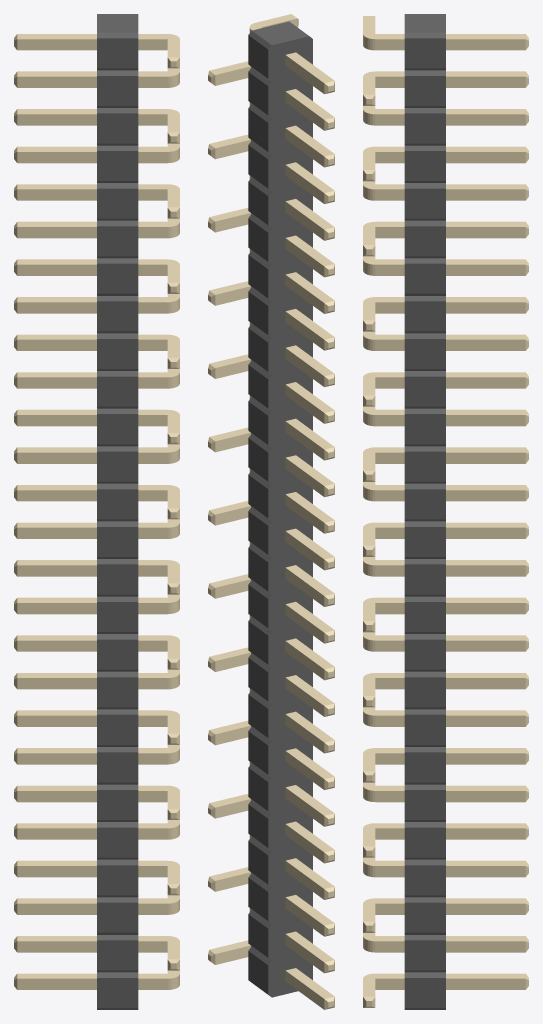
Rendered from PinHeader_1x26_P1.00mm_Vertical_SMD_Pin1Right.glb.
The picture shows the model from 3 angles, left to right: view 1: azimuth 90°, elevation 25°; view 2: azimuth 210°, elevation 25°; view 3: azimuth 270°, elevation 25°; orthographic projection. The views are drawn at different scales.
Parts seen in each view (by area): view 1: Shape_IndexedFaceSet.019, Shape_IndexedFaceSet.091, Shape_IndexedFaceSet.121, Shape_IndexedFaceSet.007, Shape_IndexedFaceSet.031, Shape_IndexedFaceSet.037, Shape_IndexedFaceSet.043, Shape_IndexedFaceSet.049, Shape_IndexedFaceSet.061, Shape_IndexedFaceSet.067, Shape_IndexedFaceSet.073, Shape_IndexedFaceSet.079 (+80 smaller); view 2: Shape_IndexedFaceSet.004, Shape_IndexedFaceSet.001, Shape_IndexedFaceSet.058, Shape_IndexedFaceSet.010, Shape_IndexedFaceSet.016, Shape_IndexedFaceSet.022, Shape_IndexedFaceSet.040, Shape_IndexedFaceSet.088, Shape_IndexedFaceSet.100, Shape_IndexedFaceSet.106, Shape_IndexedFaceSet.136, Shape_IndexedFaceSet.148 (+81 smaller); view 3: Shape_IndexedFaceSet.016, Shape_IndexedFaceSet.088, Shape_IndexedFaceSet.118, Shape_IndexedFaceSet.002, Shape_IndexedFaceSet.028, Shape_IndexedFaceSet.034, Shape_IndexedFaceSet.040, Shape_IndexedFaceSet.046, Shape_IndexedFaceSet.058, Shape_IndexedFaceSet.064, Shape_IndexedFaceSet.070, Shape_IndexedFaceSet.076 (+81 smaller).
Boxes of the visible parts, box(x1,y1,x2,y2) form: Shape_IndexedFaceSet.019: box(97, 113, 138, 143); Shape_IndexedFaceSet.091: box(97, 564, 138, 594); Shape_IndexedFaceSet.121: box(97, 752, 138, 782); Shape_IndexedFaceSet.007: box(97, 38, 138, 68); Shape_IndexedFaceSet.031: box(97, 188, 138, 218); Shape_IndexedFaceSet.037: box(97, 226, 138, 256); Shape_IndexedFaceSet.043: box(97, 263, 138, 293); Shape_IndexedFaceSet.049: box(97, 301, 138, 331); Shape_IndexedFaceSet.061: box(97, 376, 138, 406); Shape_IndexedFaceSet.067: box(97, 414, 138, 444); Shape_IndexedFaceSet.073: box(97, 451, 138, 481); Shape_IndexedFaceSet.079: box(97, 489, 138, 519); Shape_IndexedFaceSet.004: box(268, 36, 312, 997); Shape_IndexedFaceSet.001: box(252, 21, 308, 45); Shape_IndexedFaceSet.058: box(248, 365, 268, 408); Shape_IndexedFaceSet.010: box(248, 72, 268, 115); Shape_IndexedFaceSet.016: box(248, 108, 268, 151); Shape_IndexedFaceSet.022: box(248, 145, 268, 188); Shape_IndexedFaceSet.040: box(248, 255, 268, 298); Shape_IndexedFaceSet.088: box(248, 548, 268, 591); Shape_IndexedFaceSet.100: box(248, 621, 268, 664); Shape_IndexedFaceSet.106: box(248, 658, 268, 701); Shape_IndexedFaceSet.136: box(248, 841, 268, 884); Shape_IndexedFaceSet.148: box(248, 914, 268, 957); Shape_IndexedFaceSet.016: box(404, 113, 445, 143); Shape_IndexedFaceSet.088: box(404, 564, 445, 594); Shape_IndexedFaceSet.118: box(404, 752, 445, 782); Shape_IndexedFaceSet.002: box(404, 38, 445, 68); Shape_IndexedFaceSet.028: box(404, 188, 445, 218); Shape_IndexedFaceSet.034: box(404, 226, 445, 256); Shape_IndexedFaceSet.040: box(404, 263, 445, 293); Shape_IndexedFaceSet.046: box(404, 301, 445, 331); Shape_IndexedFaceSet.058: box(404, 376, 445, 406); Shape_IndexedFaceSet.064: box(404, 414, 445, 444); Shape_IndexedFaceSet.070: box(404, 451, 445, 481); Shape_IndexedFaceSet.076: box(404, 489, 445, 519).
Size of the model in its own units: 0.984 by 10.24 by 1.58.
